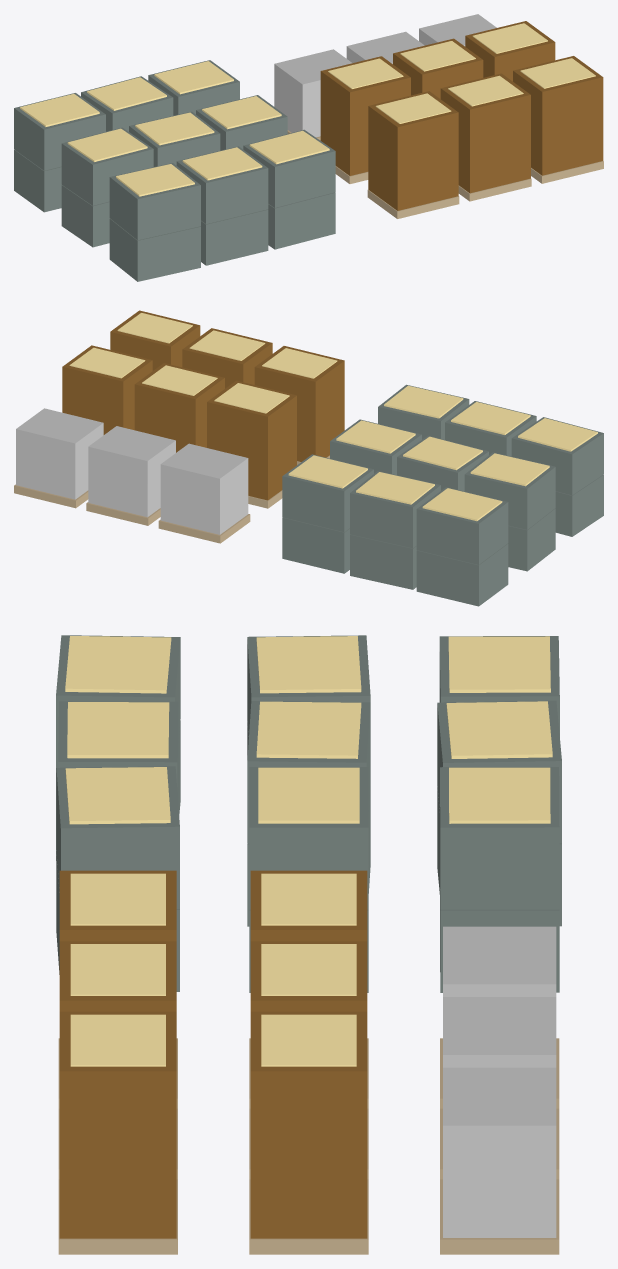
Rendered from SM_AcopioViveres_v0_Lleno_LOD1.fbx.
The picture shows the model from 3 angles, top to bottom: view 1: azimuth 30°, elevation 25°; view 2: azimuth 150°, elevation 25°; view 3: azimuth 270°, elevation 25°; orthographic projection. The views are drawn at different scales.
Parts seen in each view (by area): view 1: SM_acopio_viveres_v0_LOD1; view 2: SM_acopio_viveres_v0_LOD1; view 3: SM_acopio_viveres_v0_LOD1.
Boxes of the visible parts, x1,y1,x2,y2 form: SM_acopio_viveres_v0_LOD1: (14,14,603,281); SM_acopio_viveres_v0_LOD1: (14,310,603,606); SM_acopio_viveres_v0_LOD1: (56,635,561,1254).
Size of the model in its own units: 9.02 by 1.71 by 4.25.
